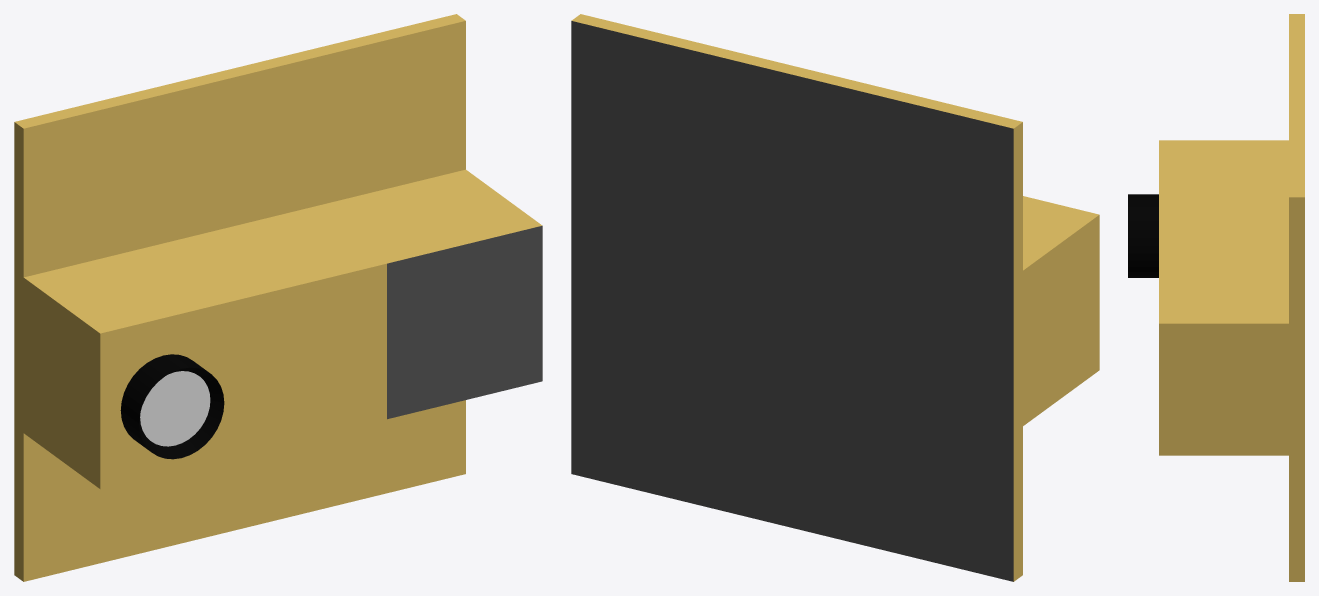
File: sat.gltf
3 renders of one model, left to right at view 1: azimuth 30°, elevation 25°; view 2: azimuth 150°, elevation 25°; view 3: azimuth 270°, elevation 25°, orthographic. The views are drawn at different scales.
Visible parts, largest first — view 1: Cube; view 2: Cube; view 3: Cube.
Boxes of the visible parts, x1=… form: Cube: x1=14, y1=14, x2=542, y2=581; Cube: x1=571, y1=14, x2=1099, y2=581; Cube: x1=1128, y1=14, x2=1304, y2=581.
Size of the model in its own units: 5.95 by 5.82 by 2.42.
